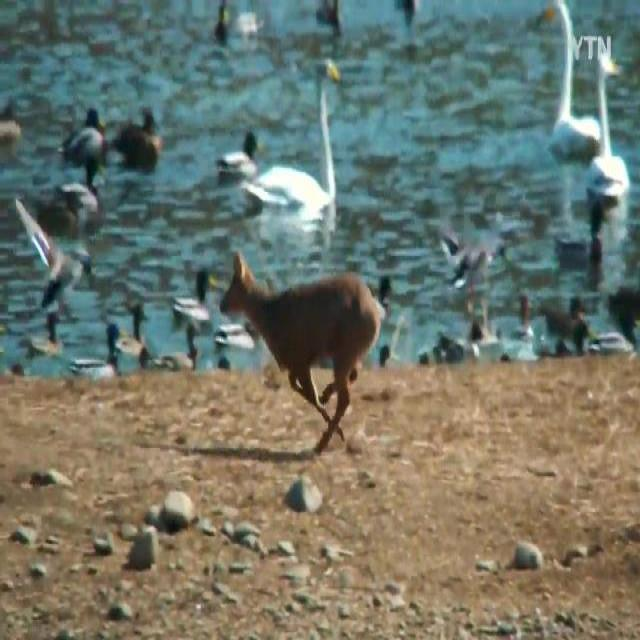deer: (220, 251, 380, 453)
